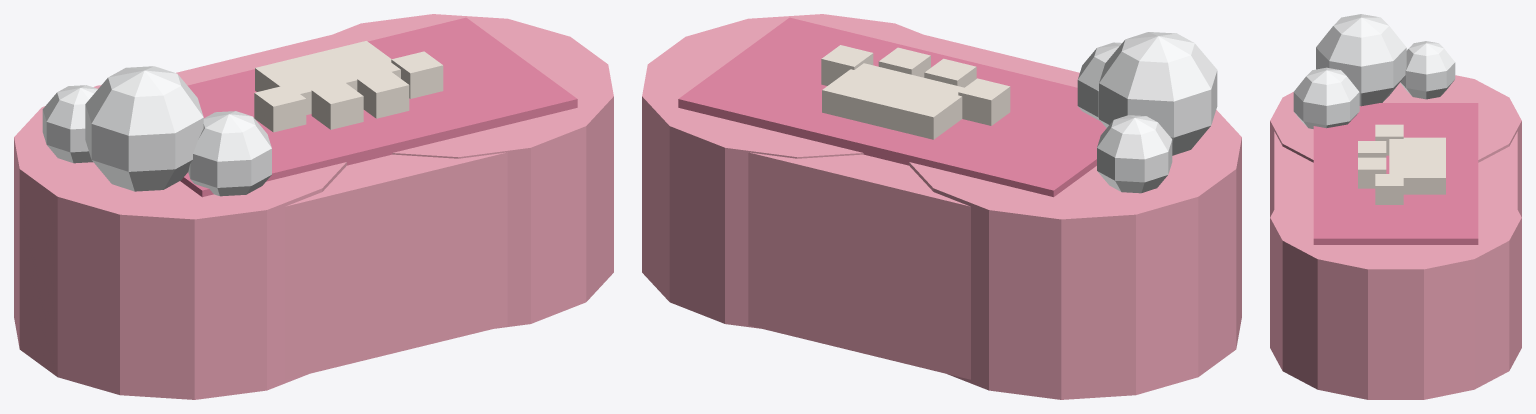
File: CleanACat_Tool_SoapBar.fbx
3 renders of one model, left to right at view 1: azimuth 30°, elevation 25°; view 2: azimuth 150°, elevation 25°; view 3: azimuth 270°, elevation 25°, orthographic. The views are drawn at different scales.
Visible parts, largest first — view 1: CleanACat_Tool_SoapBar; view 2: CleanACat_Tool_SoapBar; view 3: CleanACat_Tool_SoapBar.
Part boxes in pixels (left/top/right/bottom): CleanACat_Tool_SoapBar: left=14, top=14, right=613, bottom=399; CleanACat_Tool_SoapBar: left=642, top=14, right=1241, bottom=399; CleanACat_Tool_SoapBar: left=1270, top=14, right=1521, bottom=399.
Bounding box in the file's own units: 1.09 × 0.546 × 0.58.
Materials: 1 (1 with a texture image).
